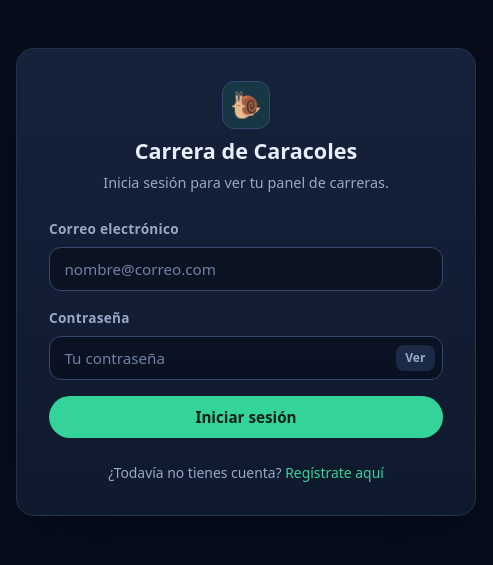
Test case: LoginPage › muestra el mensaje de error que devuelve el servidor
This screenshot has width=493, height=565.
Type "ana@correo.com" into the field labelled "Correo electrónico".
click(246, 269); type("ana@correo.com")  # box [49, 247, 443, 291]
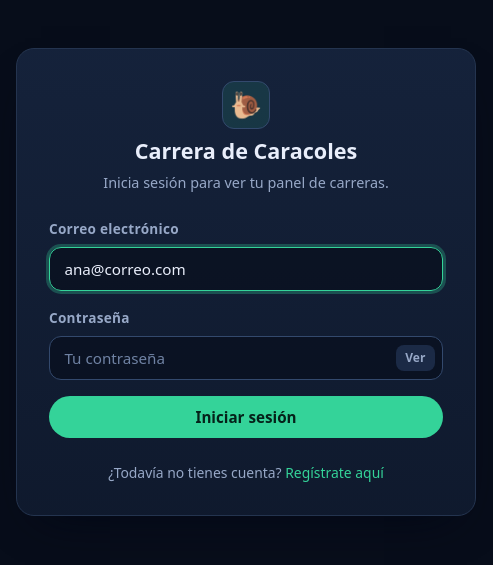
Type "Incorrecta1" into the password field labelled "Contraseña".
click(246, 358); type("Incorrecta1")  # box [49, 336, 443, 380]
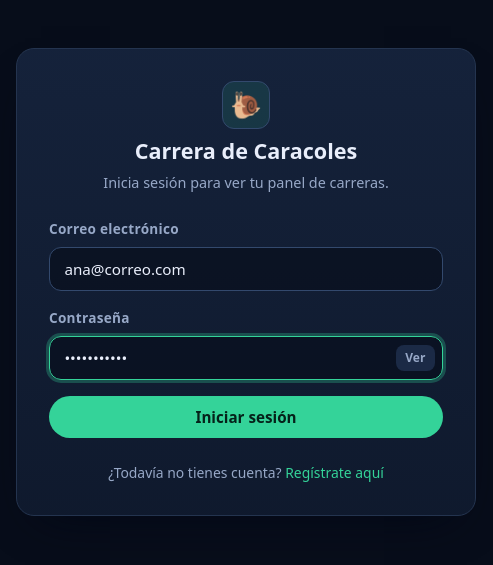
Click the button "Iniciar sesión".
click(246, 417)  # box [49, 396, 443, 438]
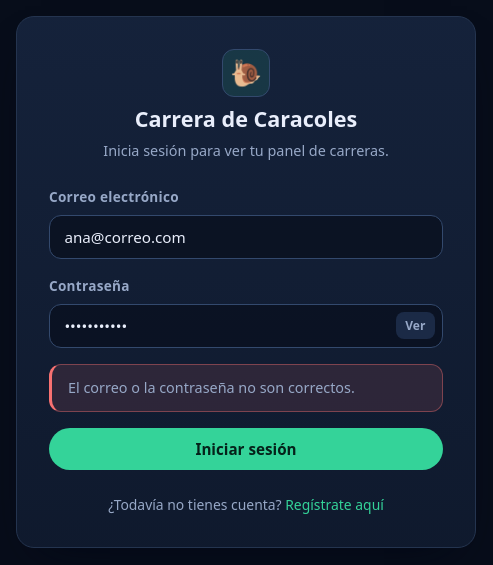
expect the text "El correo o la contraseña no son correctos." is shown: met, box [68, 378, 355, 397]
